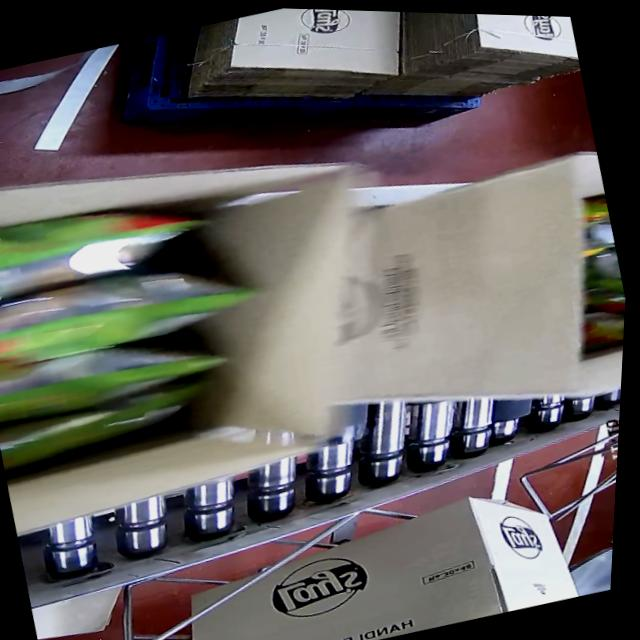YOGURT_HERB: (0, 173, 279, 464)
